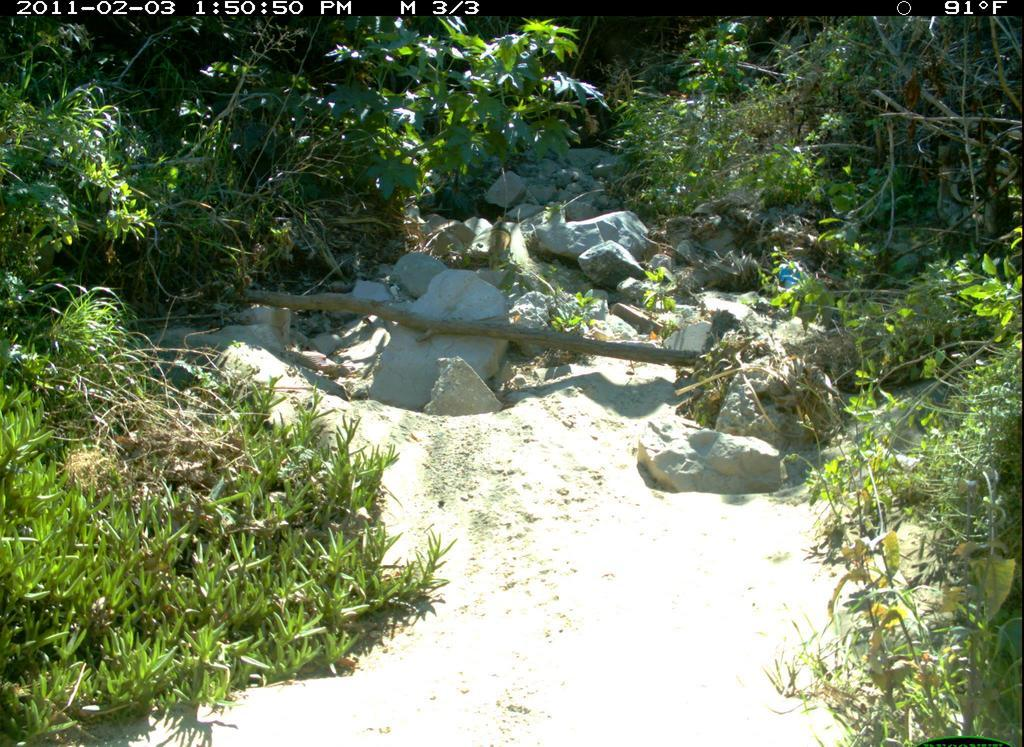squirrel: (477, 207, 532, 280)
